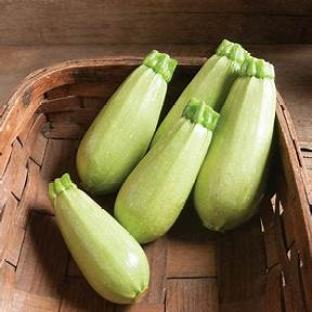Zucchini: (114, 99, 218, 243), (194, 57, 276, 230), (77, 50, 176, 193), (49, 174, 149, 303), (152, 40, 249, 144)
